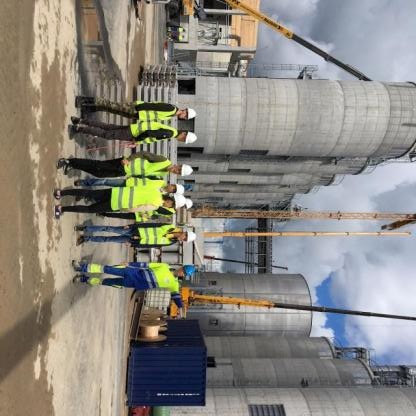blue: (182, 262, 197, 278)
vest: (106, 183, 165, 214), (127, 258, 180, 292), (124, 152, 176, 180), (128, 121, 178, 147), (136, 222, 183, 246), (131, 100, 178, 122), (120, 178, 170, 190)
white: (182, 105, 198, 121), (172, 195, 187, 212), (181, 162, 196, 178), (184, 129, 198, 146), (182, 231, 198, 244), (181, 199, 195, 212), (174, 182, 184, 196)
